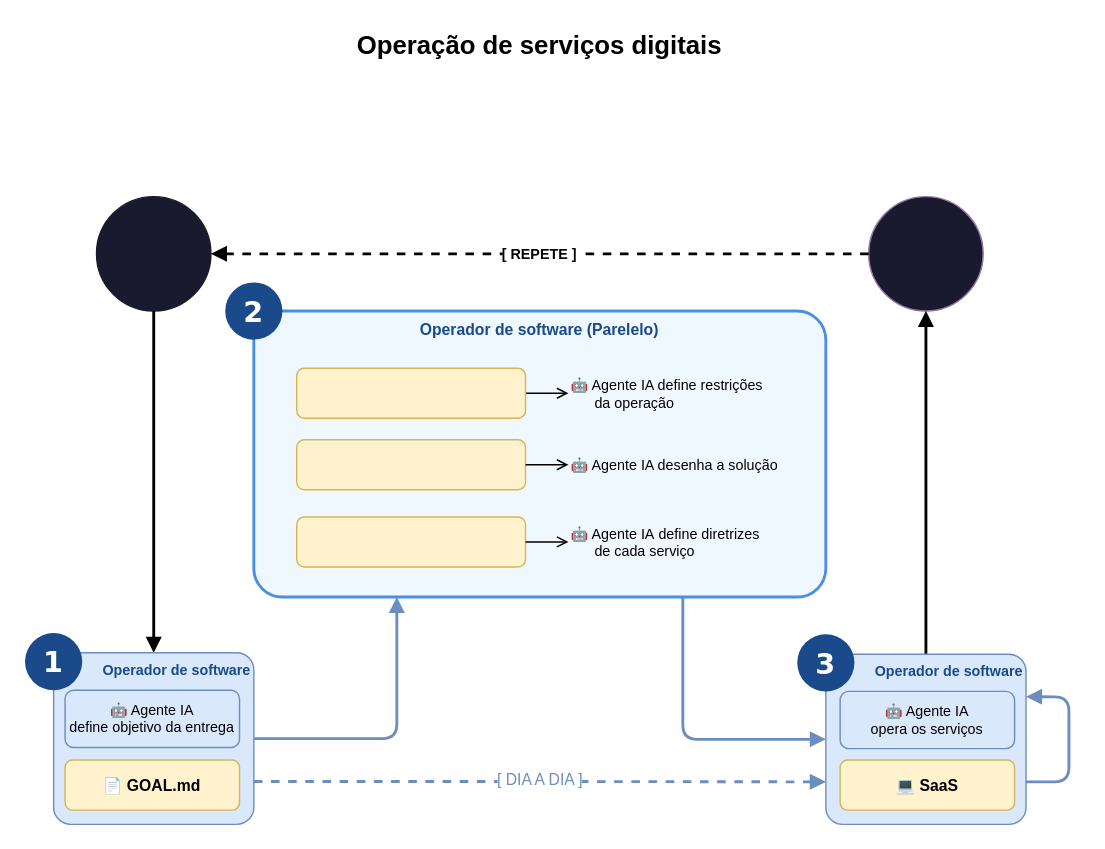
Some shapes in this 1105 by 849 pixel diagram are drawn without their labels. The centre of each missing label's shape, as x and y in pixels:
Entrega Incremental: point (925, 253)
Início do ciclo: point (153, 253)
📄 OPERATION.md: point (410, 392)
📄 services/<SERVICE>.md: point (410, 541)
📄 SOLUTION.md: point (410, 464)
